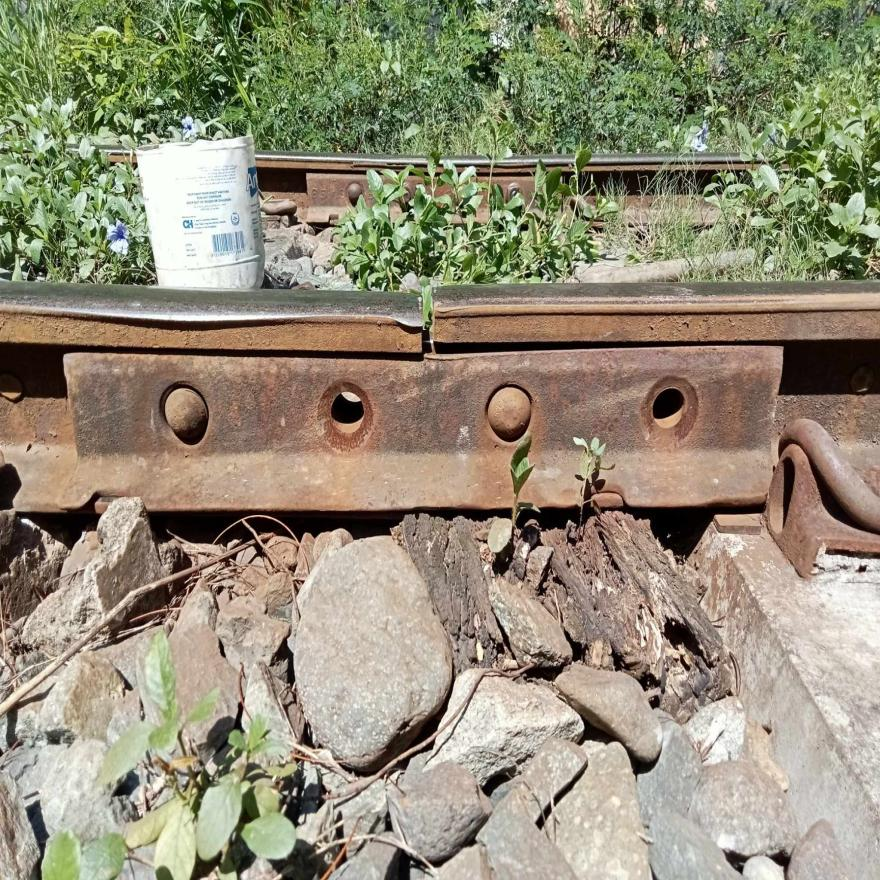railway-gap: (378, 261, 471, 387)
